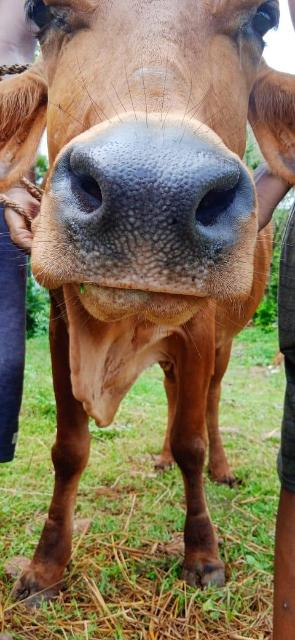Muzzle: (57, 135, 253, 271)
